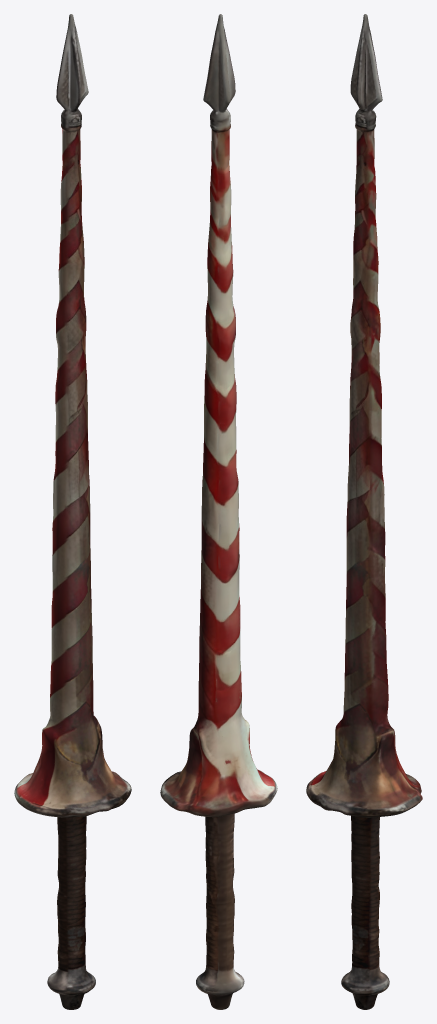
Rendered from rose_tourney_lance.glb.
3 renders of one model, left to right at view 1: azimuth 30°, elevation 25°; view 2: azimuth 210°, elevation 25°; view 3: azimuth 330°, elevation 25°, orthographic.
Parts seen in each view (by area): view 1: rose_tourney_lance; view 2: rose_tourney_lance; view 3: rose_tourney_lance.
Boxes of the visible parts, bbox=[...] form: rose_tourney_lance: bbox=[14, 14, 131, 1009]; rose_tourney_lance: bbox=[160, 14, 277, 1009]; rose_tourney_lance: bbox=[306, 14, 422, 1009].
Size of the model in its own units: 0.3225 by 3 by 0.2962.
Materials: 1 (1 with a texture image).
